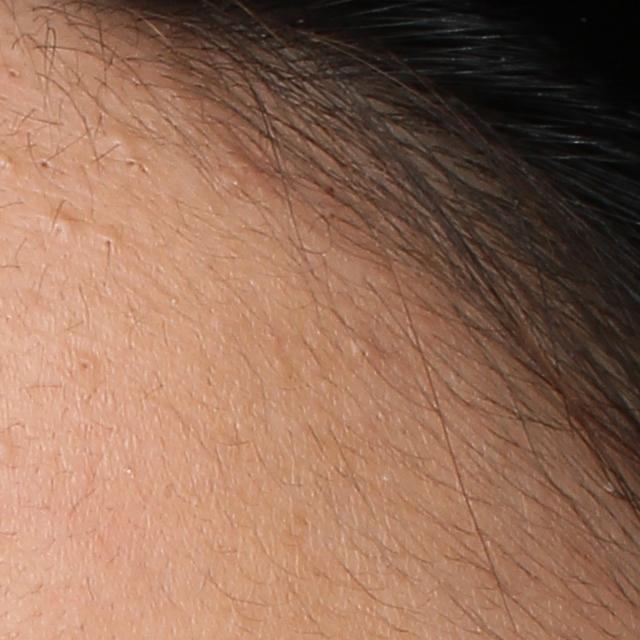comedo: (99, 124, 134, 157), (44, 212, 78, 243), (71, 351, 99, 380), (350, 338, 381, 363), (99, 233, 123, 253), (34, 155, 55, 174), (124, 154, 142, 173), (5, 65, 24, 83)
